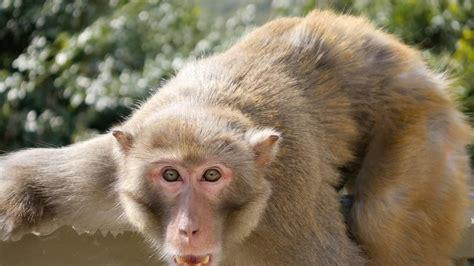monkey: (1, 13, 463, 266)
